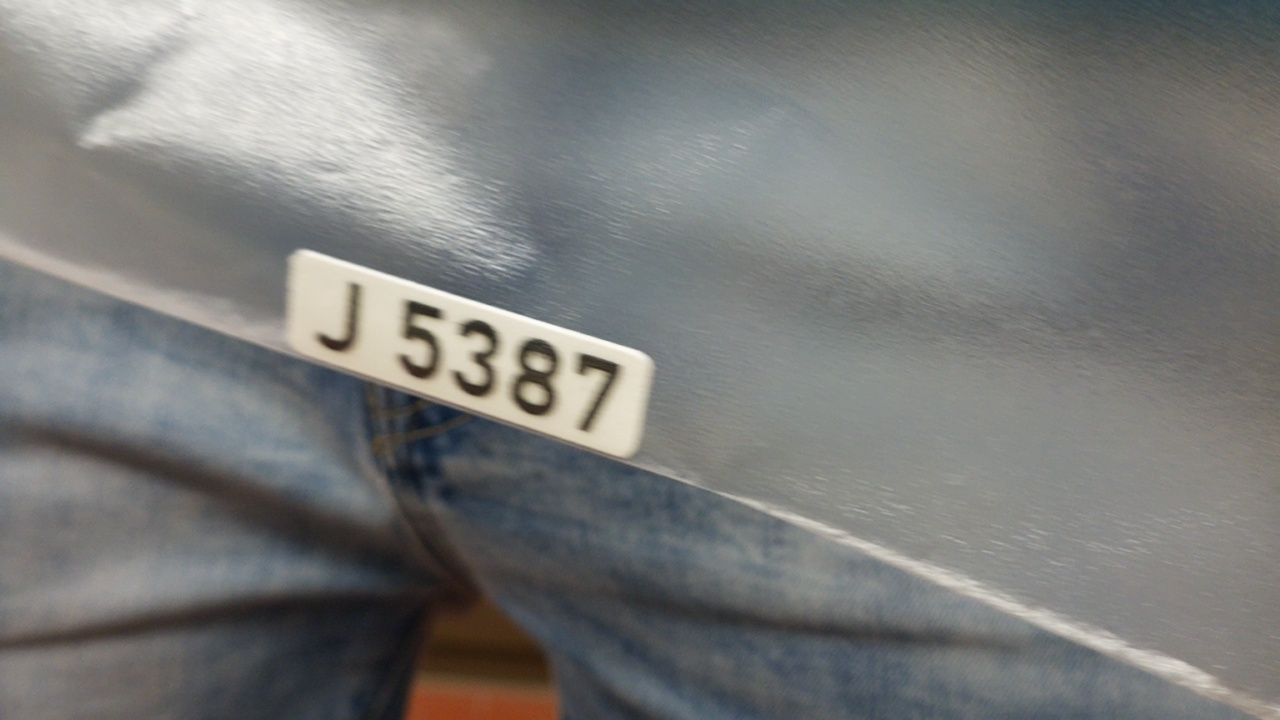license_plate: (279, 239, 660, 462)
